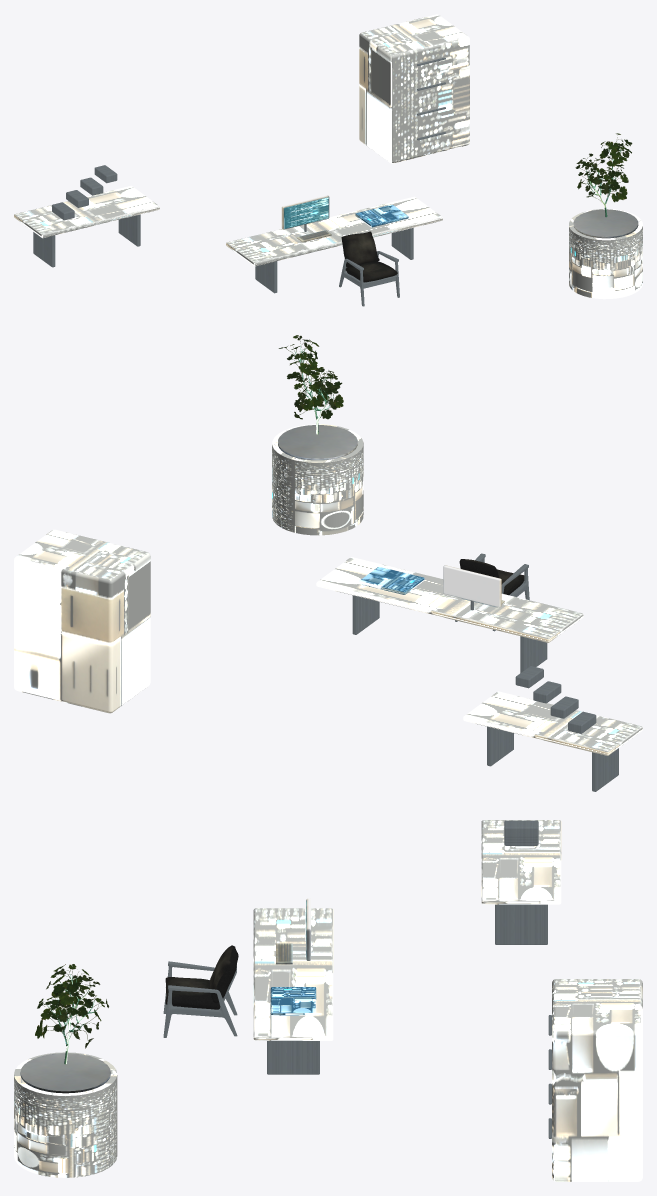
The model's file is founder.glb.
3 renders of one model, top to bottom at view 1: azimuth 30°, elevation 25°; view 2: azimuth 150°, elevation 25°; view 3: azimuth 270°, elevation 25°, orthographic. The views are drawn at different scales.
Visible parts, largest first — view 1: Static_founder; view 2: Static_founder; view 3: Static_founder.
Boxes of the visible parts, <box> form: Static_founder: <box>14,14,642,306</box>; Static_founder: <box>14,335,642,791</box>; Static_founder: <box>14,820,642,1181</box>.
Size of the model in its own units: 9.6 by 2.92 by 8.28.
9 materials, 4 textured.
